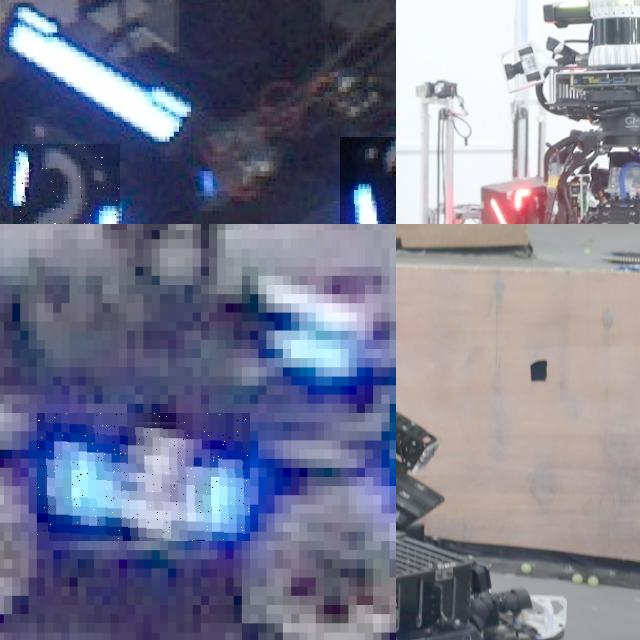B2: (13, 144, 121, 224), (340, 136, 396, 224)
B4: (37, 413, 250, 541)
